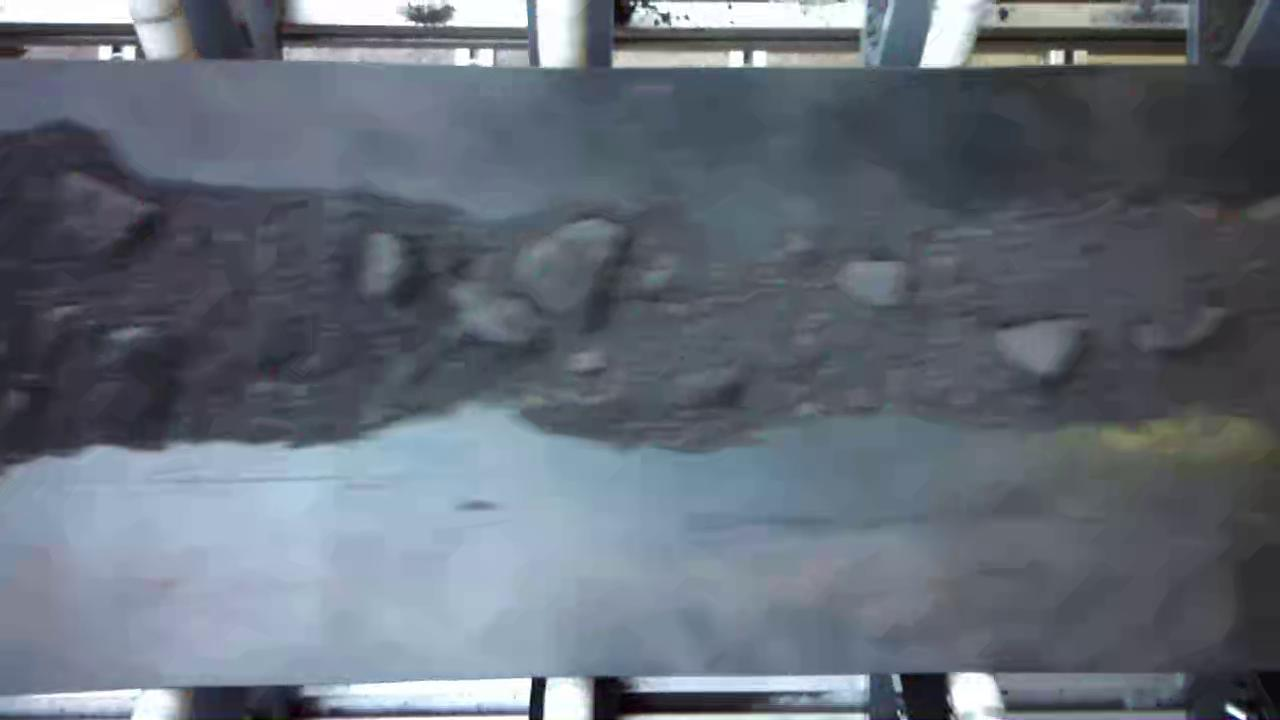conveyor: (0, 74, 1279, 661)
